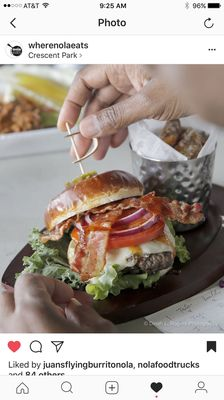soup: (17, 169, 184, 304)
